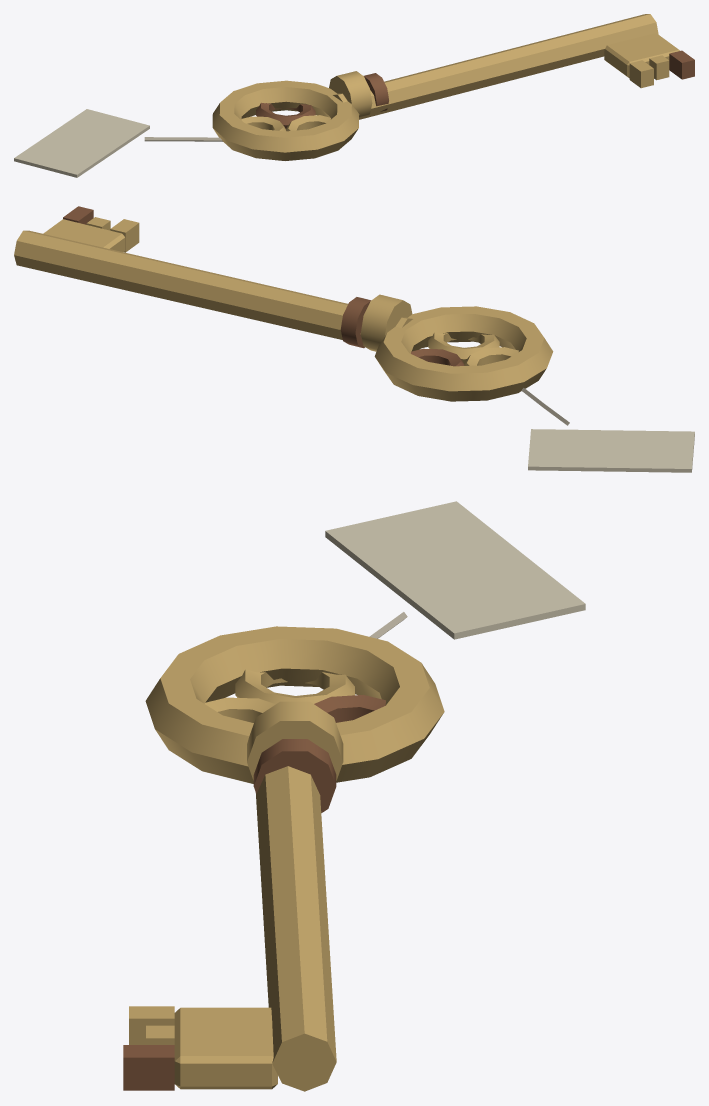
Rendered from key.glb.
3 views of the same model, one above another, from view 1: azimuth 30°, elevation 25°; view 2: azimuth 150°, elevation 25°; view 3: azimuth 270°, elevation 25° (orthographic). The views are drawn at different scales.
Parts seen in each view (by area): view 1: key_static; view 2: key_static; view 3: key_static.
Part boxes in pixels (<box>): key_static: <box>14,14,694,177</box>; key_static: <box>14,206,694,472</box>; key_static: <box>123,501,585,1091</box>.
Size of the model in its own units: 0.1207 by 0.00819 by 0.0404.
